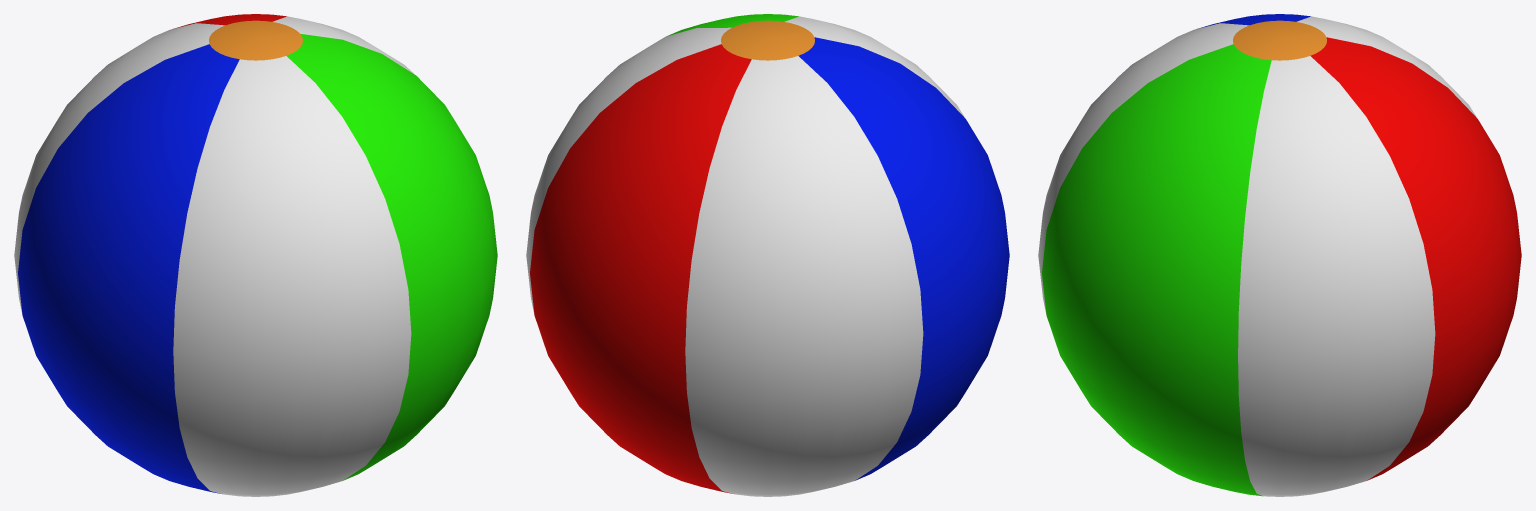
Rendered from bola pantai.fbx.
3 views of the same model, side by side, from view 1: azimuth 30°, elevation 25°; view 2: azimuth 150°, elevation 25°; view 3: azimuth 270°, elevation 25° (orthographic).
Visible parts, largest first — view 1: Sphere; view 2: Sphere; view 3: Sphere.
Part boxes in pixels (x1=…): Sphere: x1=14, y1=14, x2=497, y2=496; Sphere: x1=526, y1=14, x2=1009, y2=496; Sphere: x1=1038, y1=14, x2=1521, y2=496.
Size of the model in its own units: 200 by 200 by 200.
